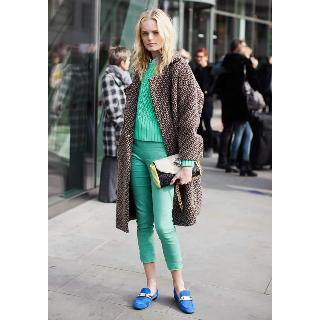loafers: (170, 286, 200, 316), (131, 287, 163, 311)
